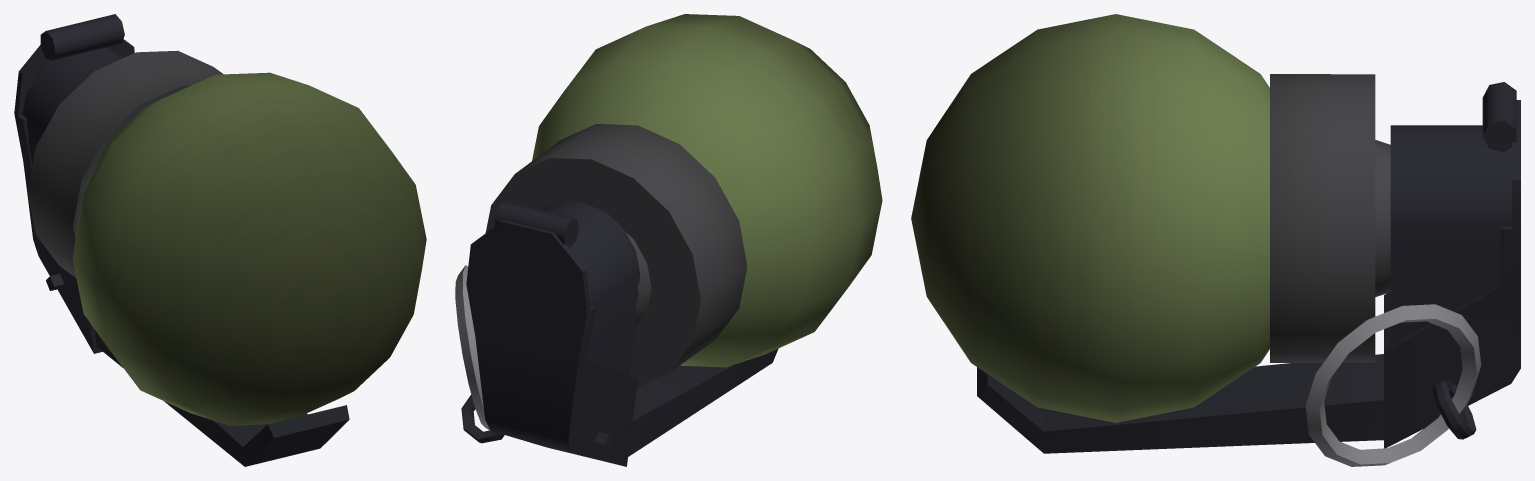
Rendered from Grenade.FBX.
3 views of the same model, side by side, from view 1: azimuth 30°, elevation 25°; view 2: azimuth 150°, elevation 25°; view 3: azimuth 270°, elevation 25° (orthographic). The views are drawn at different scales.
Visible parts, largest first — view 1: grenade_base, grenade_pin, grenade_pinbase; view 2: grenade_base, grenade_pinbase, grenade_pin, grenade_safety, grenade_safety2; view 3: grenade_base, grenade_pin, grenade_pinbase, grenade_safety, grenade_safety2.
Part boxes in pixels (x1,y1,x2,y2): grenade_base: [27, 50, 426, 425]; grenade_pin: [22, 47, 349, 466]; grenade_pinbase: [14, 14, 134, 353]; grenade_base: [485, 14, 882, 387]; grenade_pinbase: [466, 201, 637, 466]; grenade_pin: [542, 201, 778, 456]; grenade_safety: [455, 265, 489, 430]; grenade_safety2: [461, 394, 612, 449]; grenade_base: [911, 14, 1390, 422]; grenade_pin: [977, 125, 1512, 453]; grenade_pinbase: [1384, 82, 1520, 448]; grenade_safety: [1305, 304, 1481, 466]; grenade_safety2: [1432, 380, 1476, 439].
Bounding box in the file's own units: 0.1728 × 0.1857 × 0.2574.
